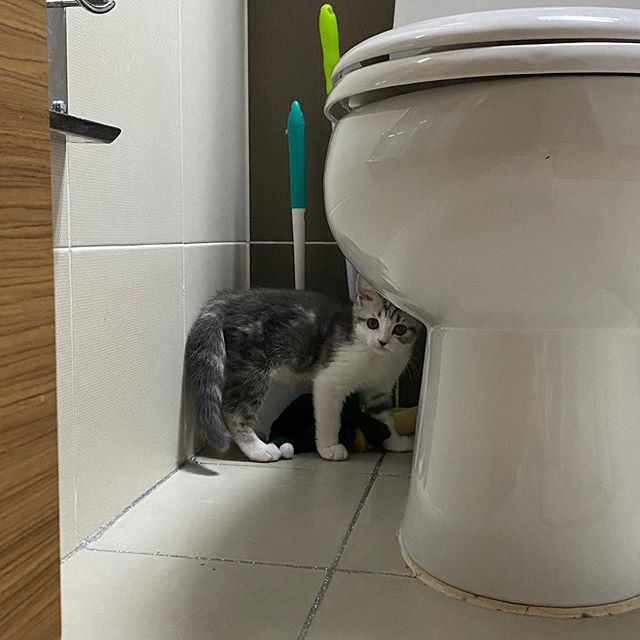cat: (350, 280, 421, 367)
